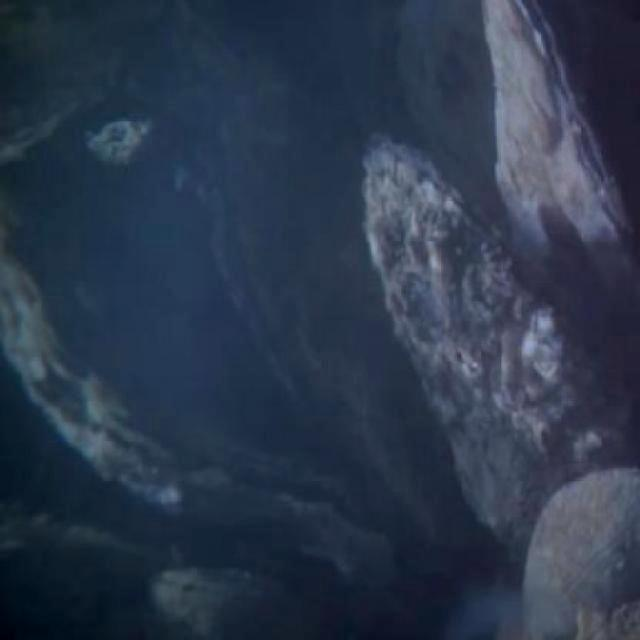Oyster-Closed: (364, 134, 615, 558), (483, 0, 639, 330)
Oyster-Open: (0, 202, 409, 593), (195, 77, 332, 453)
